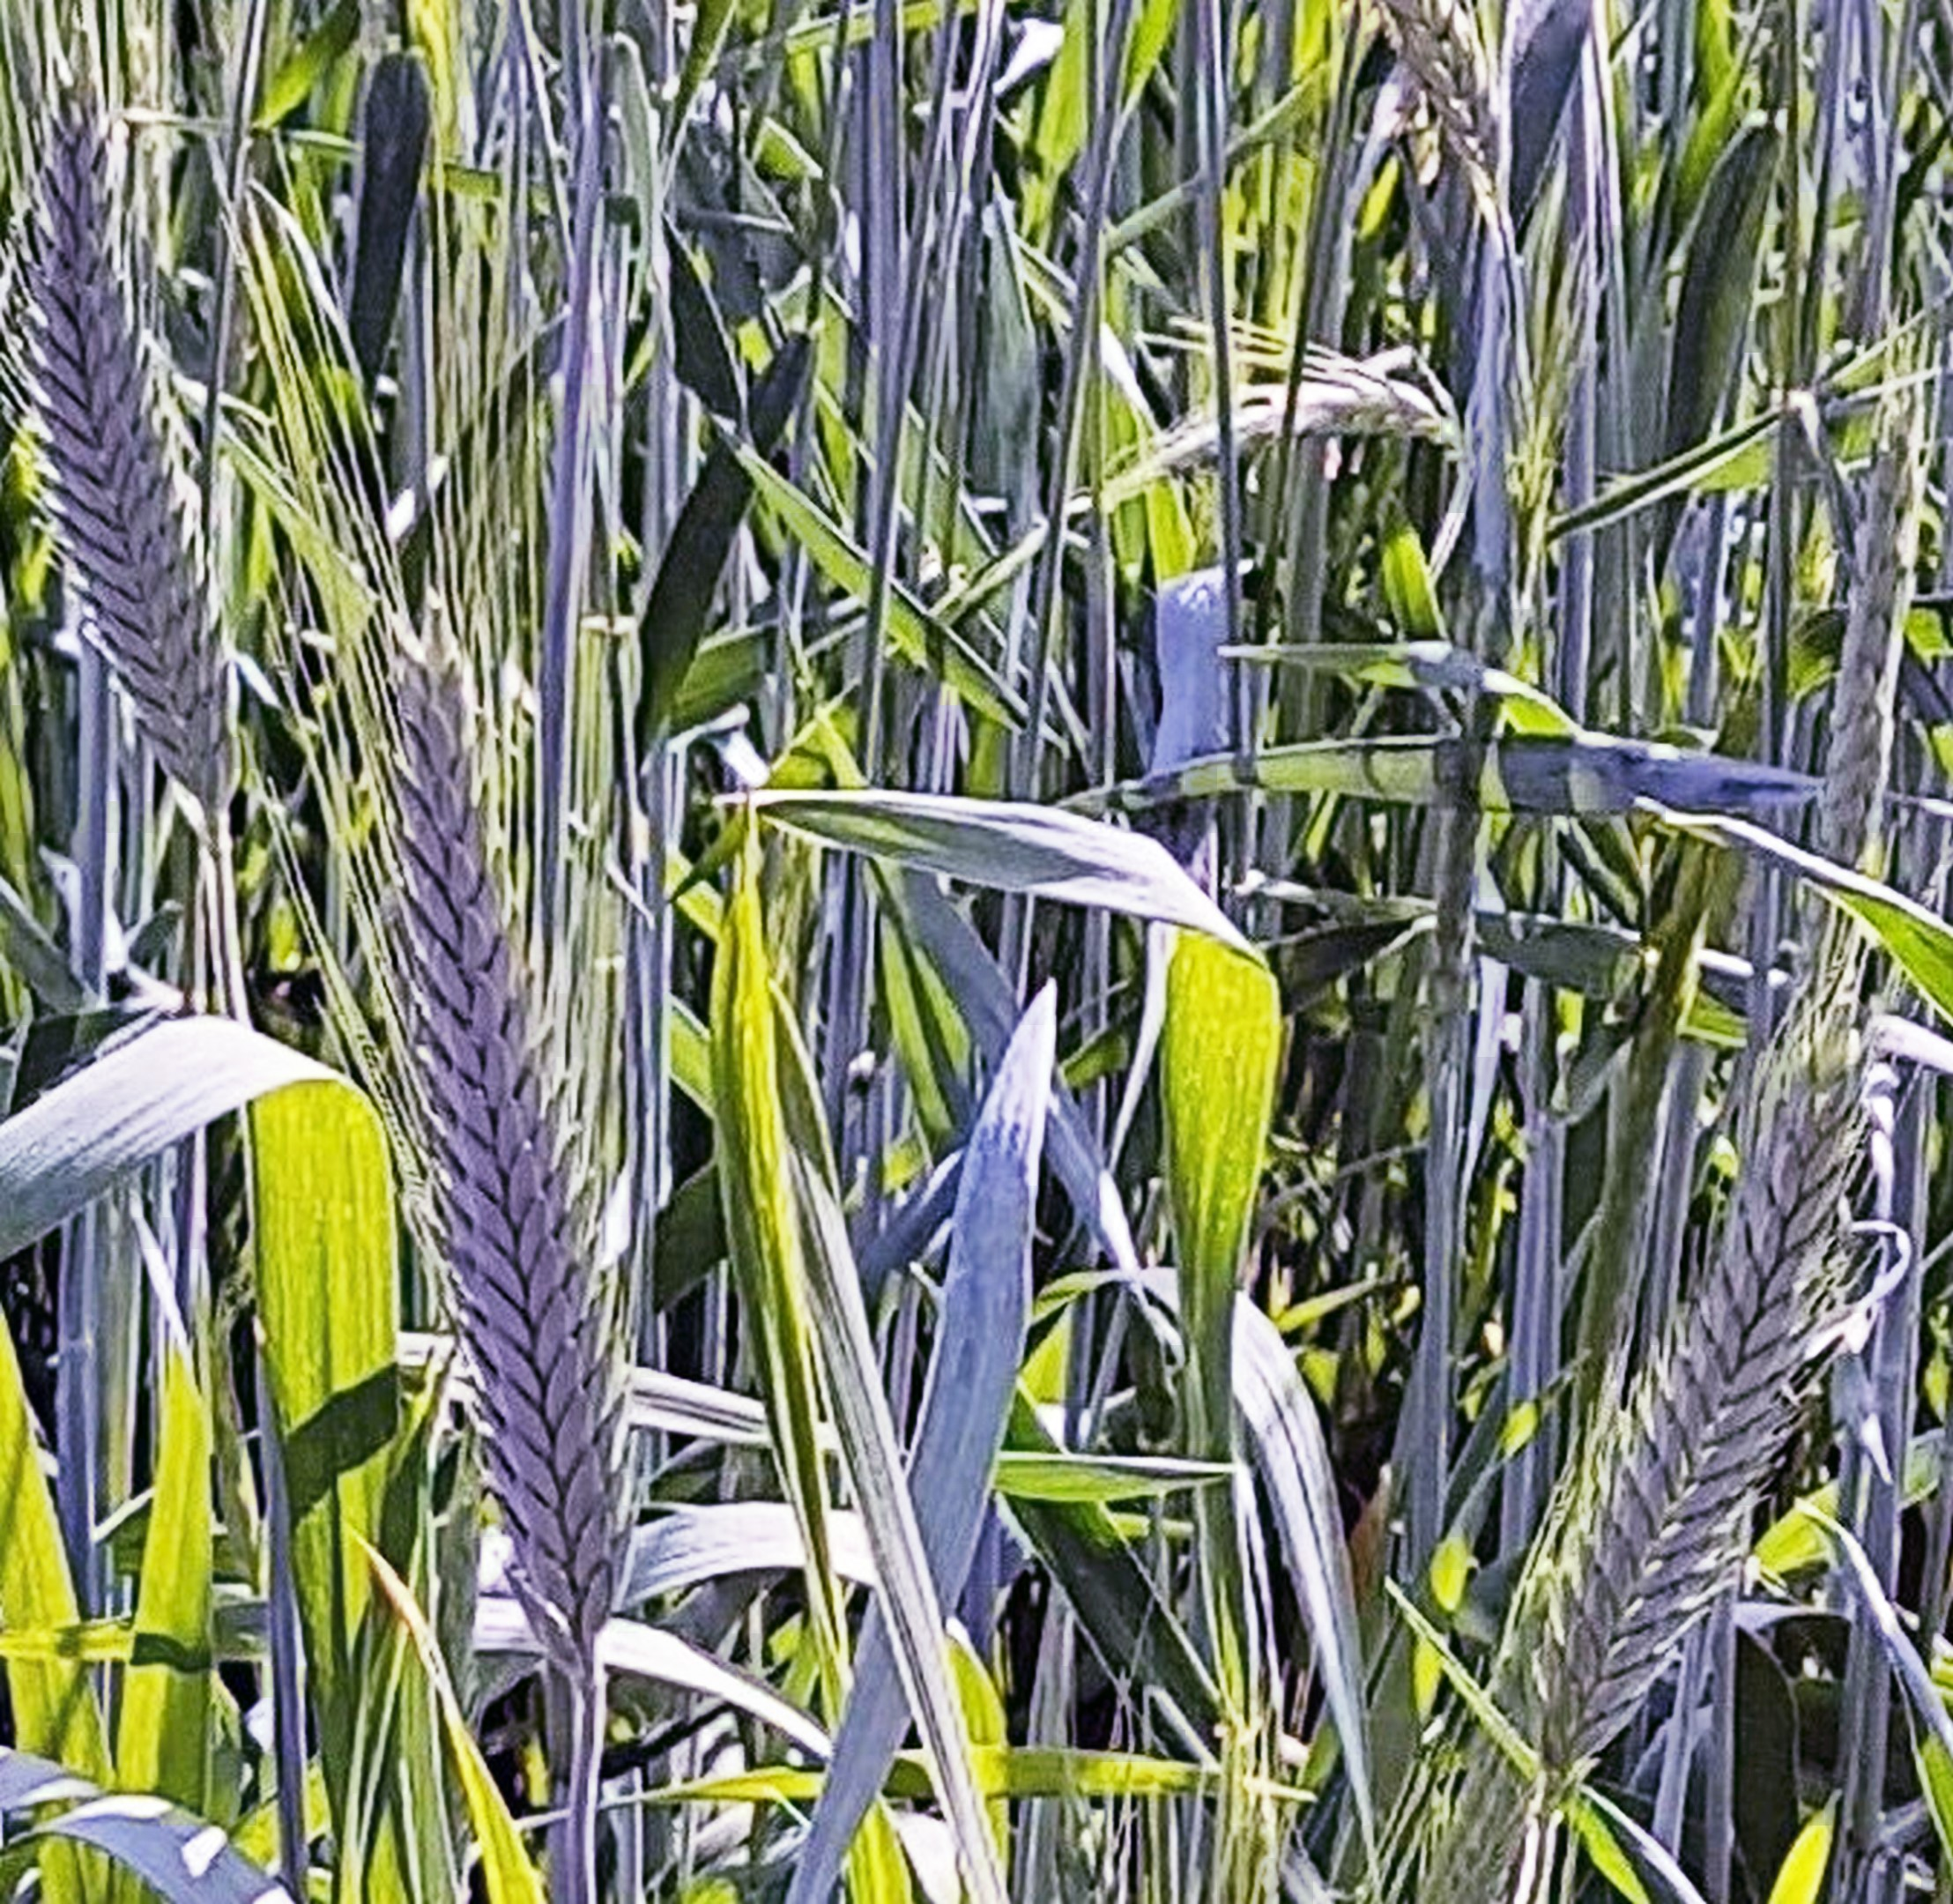Healthy Wheat: (363, 628, 673, 1642), (1521, 1060, 1927, 1791), (7, 89, 293, 826)
